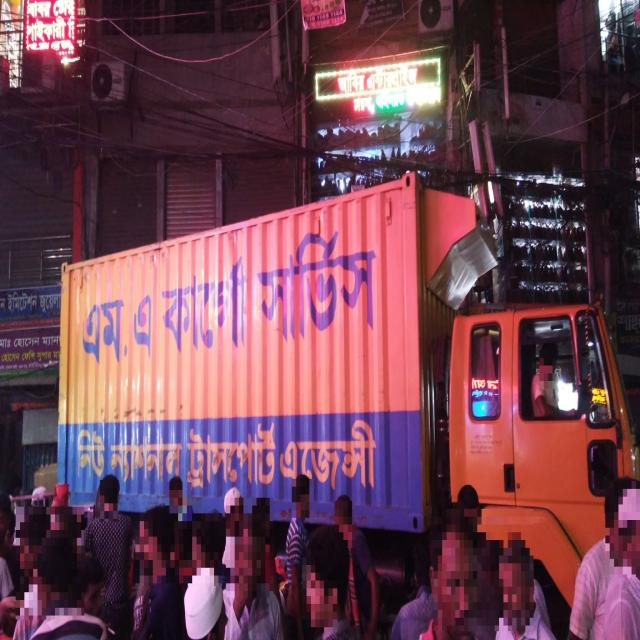truck: (50, 143, 639, 604)
